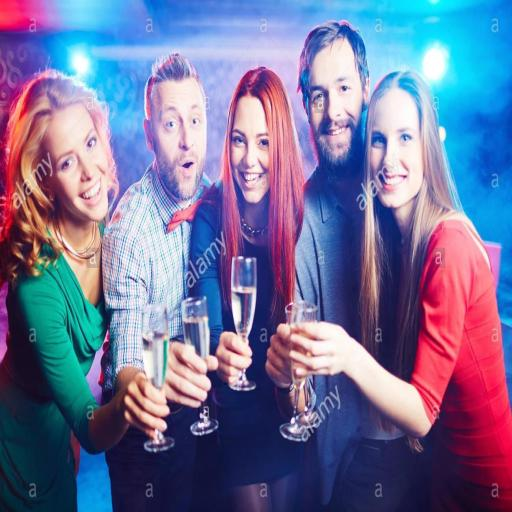person: (290, 72, 511, 510), (0, 70, 169, 510), (102, 53, 216, 511), (191, 67, 303, 511), (296, 21, 369, 337)
